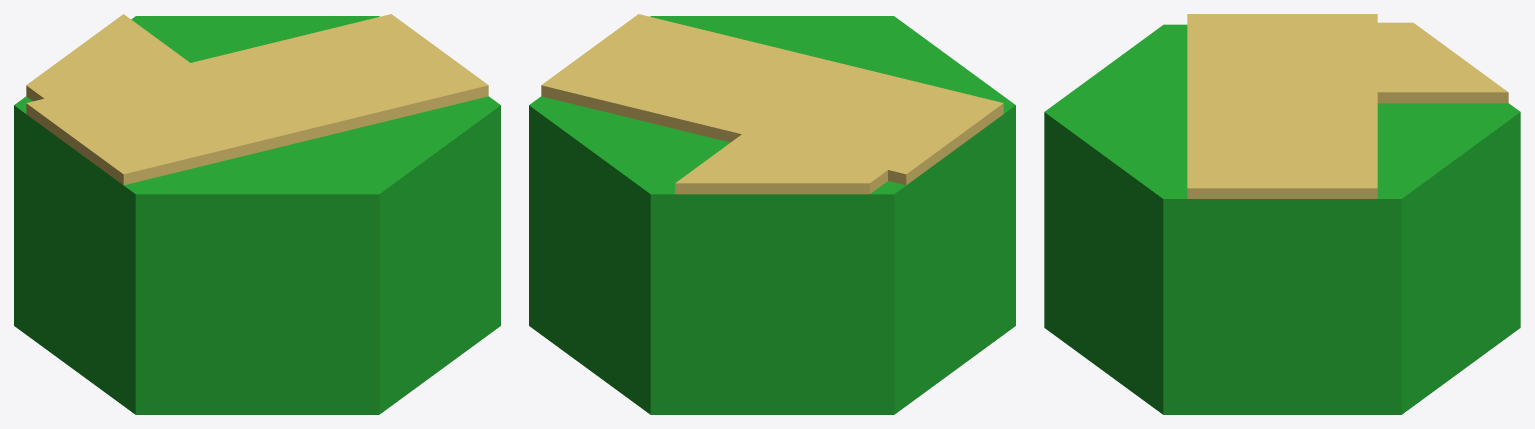
File: path-right_corner.glb
3 renders of one model, left to right at view 1: azimuth 30°, elevation 25°; view 2: azimuth 150°, elevation 25°; view 3: azimuth 270°, elevation 25°, orthographic. The views are drawn at different scales.
Parts seen in each view (by area): view 1: path-right_corner; view 2: path-right_corner; view 3: path-right_corner.
Boxes of the visible parts, box(x1,y1,x2,y2) form: path-right_corner: box(14, 14, 500, 414); path-right_corner: box(529, 14, 1015, 414); path-right_corner: box(1044, 14, 1520, 414).
Size of the model in its own units: 0.866 by 0.525 by 1.
